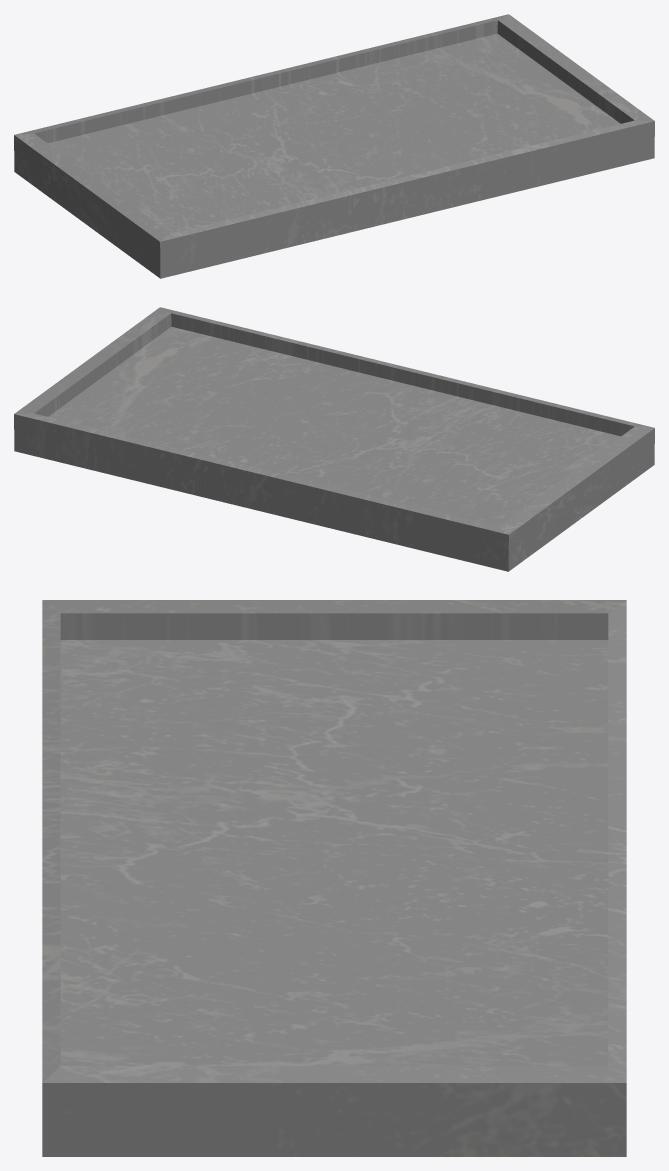
File: roof1.fbx
The picture shows the model from 3 angles, top to bottom: view 1: azimuth 30°, elevation 25°; view 2: azimuth 150°, elevation 25°; view 3: azimuth 270°, elevation 25°; orthographic projection. The views are drawn at different scales.
Visible parts, largest first — view 1: Box001; view 2: Box001; view 3: Box001.
Part boxes in pixels (x1,y1,x2,y2): Box001: [14, 14, 654, 278]; Box001: [14, 307, 654, 571]; Box001: [42, 600, 626, 1156].
Bounding box in the file's own units: 134 × 9.85 × 68.4.
